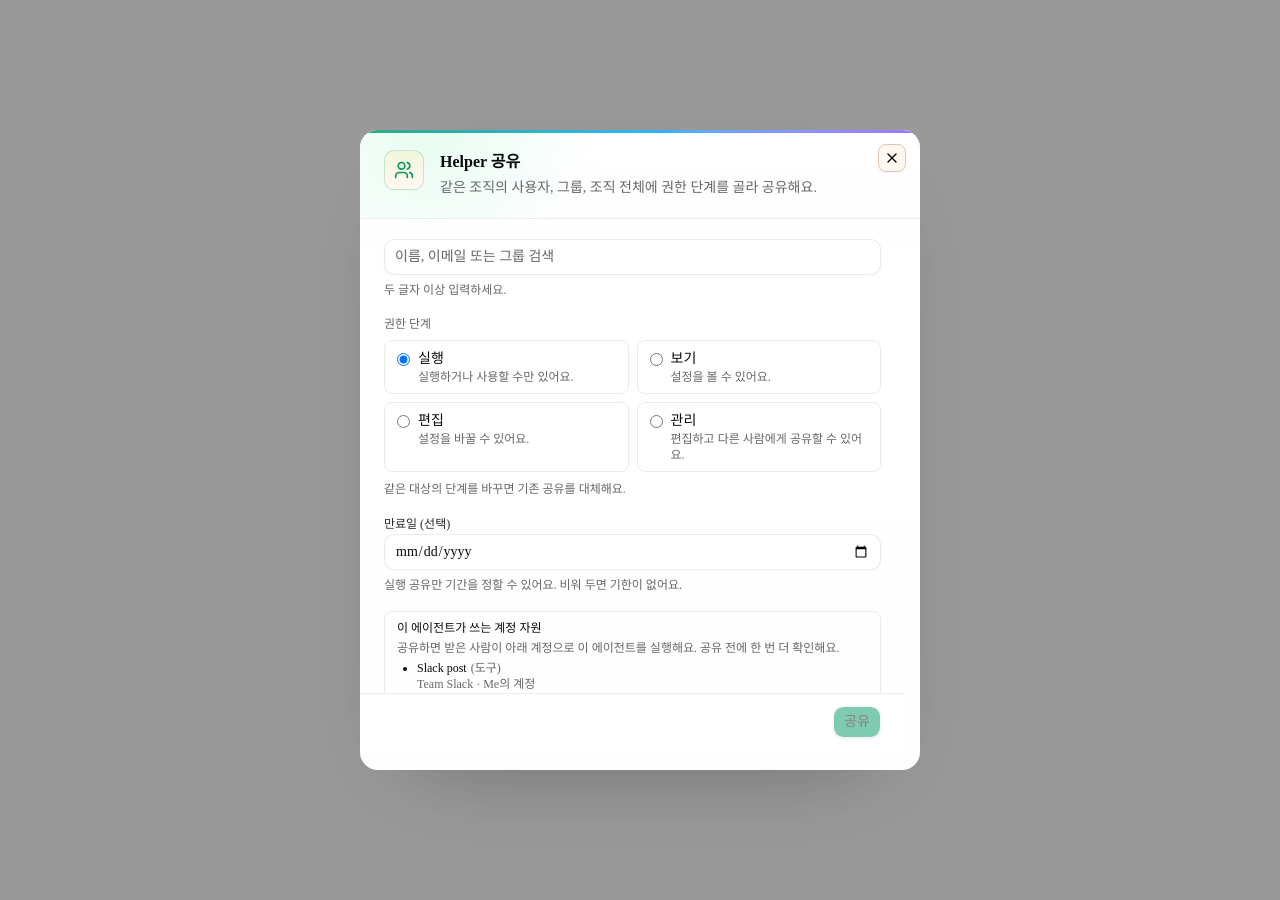
ResourceShareDialog delegation preview (E-06) › cancelling the confirmation sends nothing
Type "Lee" into the dropdown named "공유할 사람 또는 그룹" at [632, 257], box [384,239,881,275]
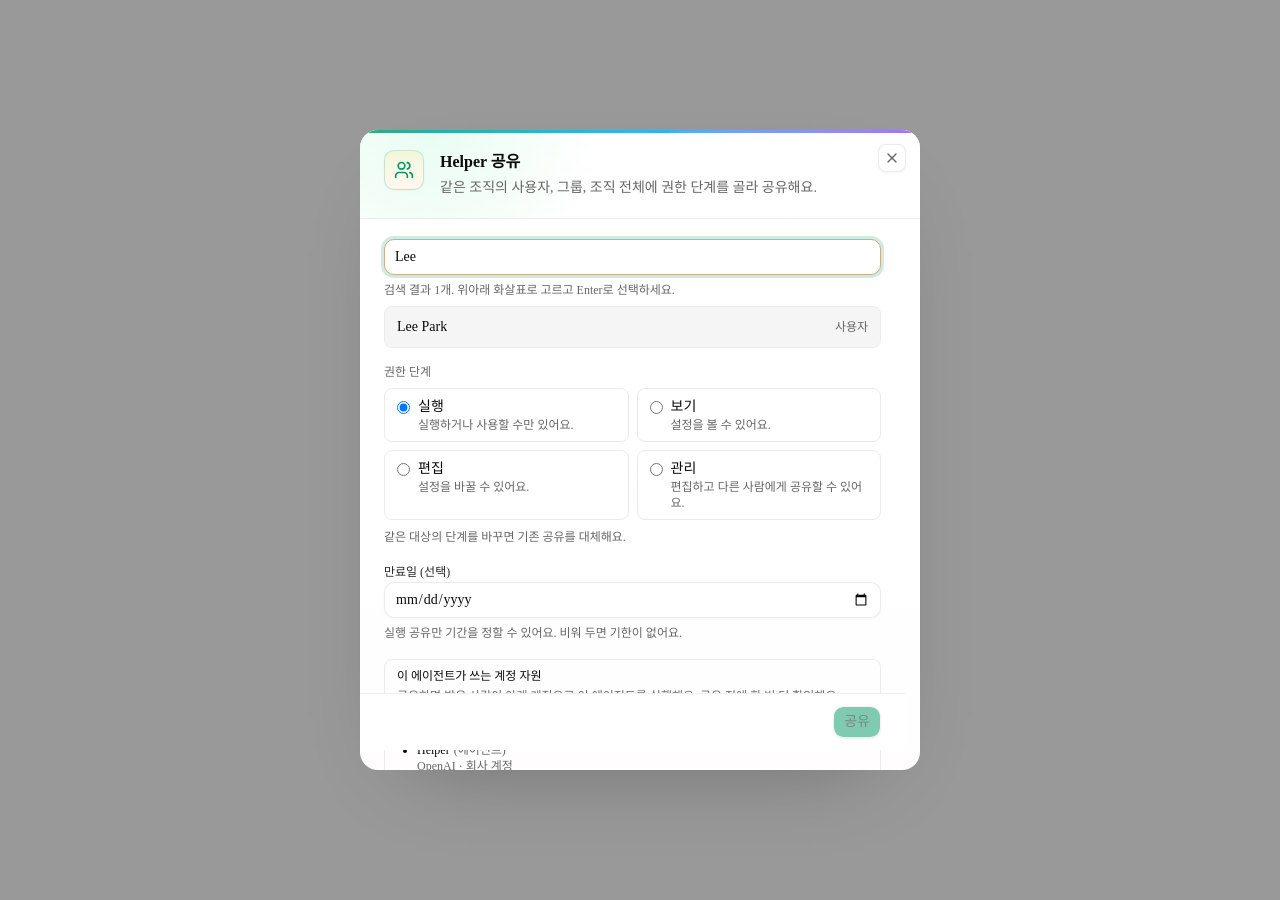
Check: the option "Lee Park 사용자" is shown, box [385,307,880,347]
Press Arrowdown Arrowup Enter
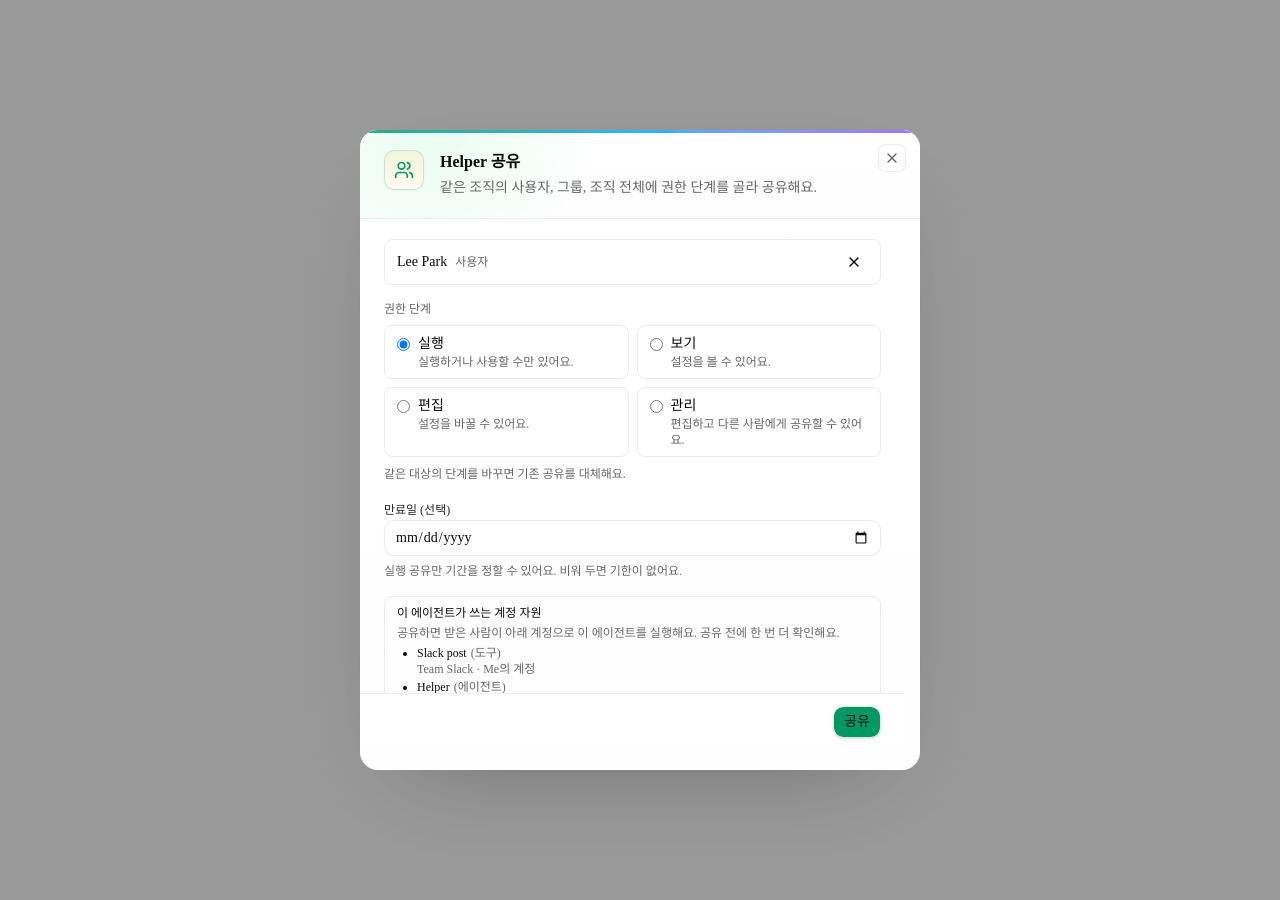
Click the button "공유" at [857, 722], box [833,706,881,738]
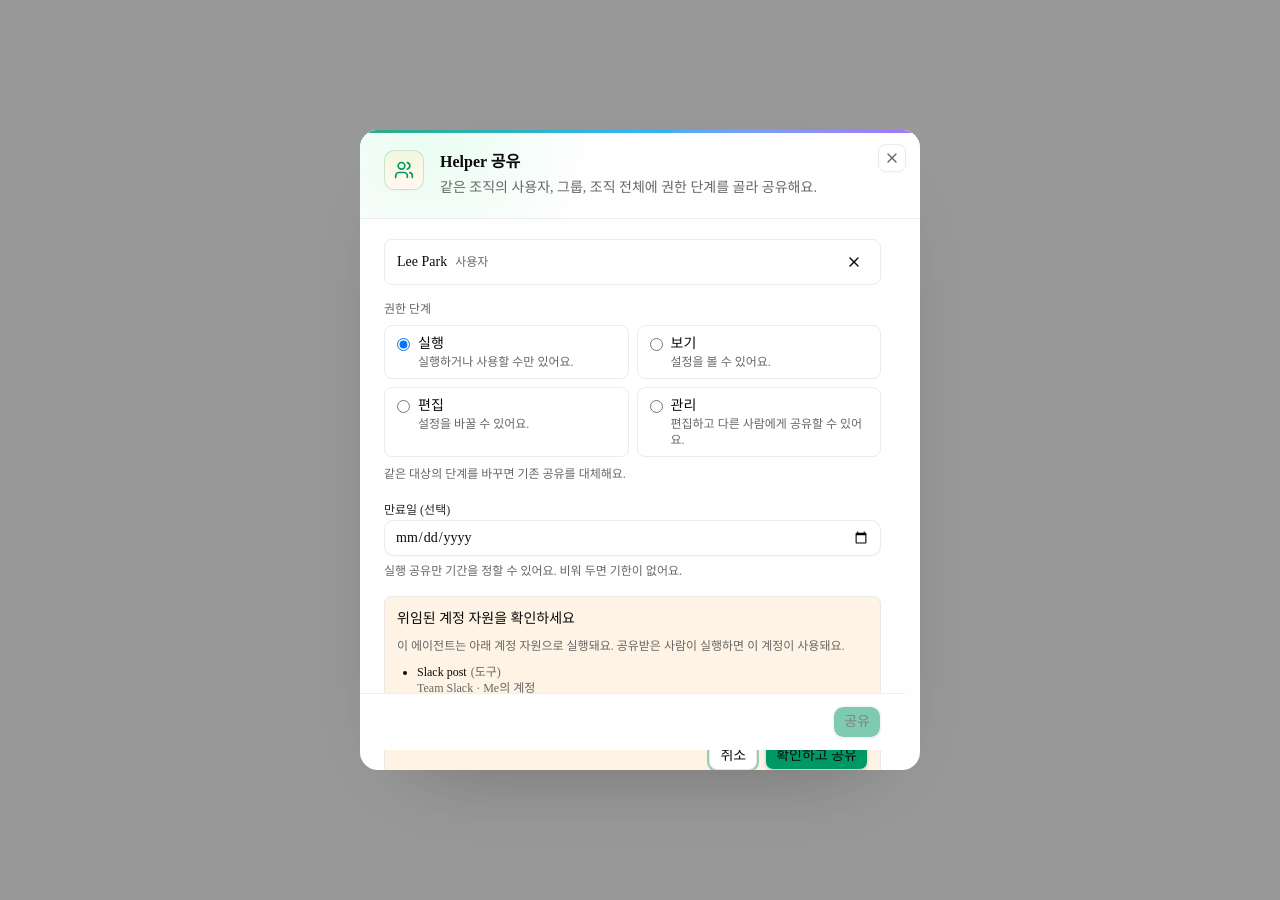
Click the button "취소" at [733, 756], box [710,742,757,770]
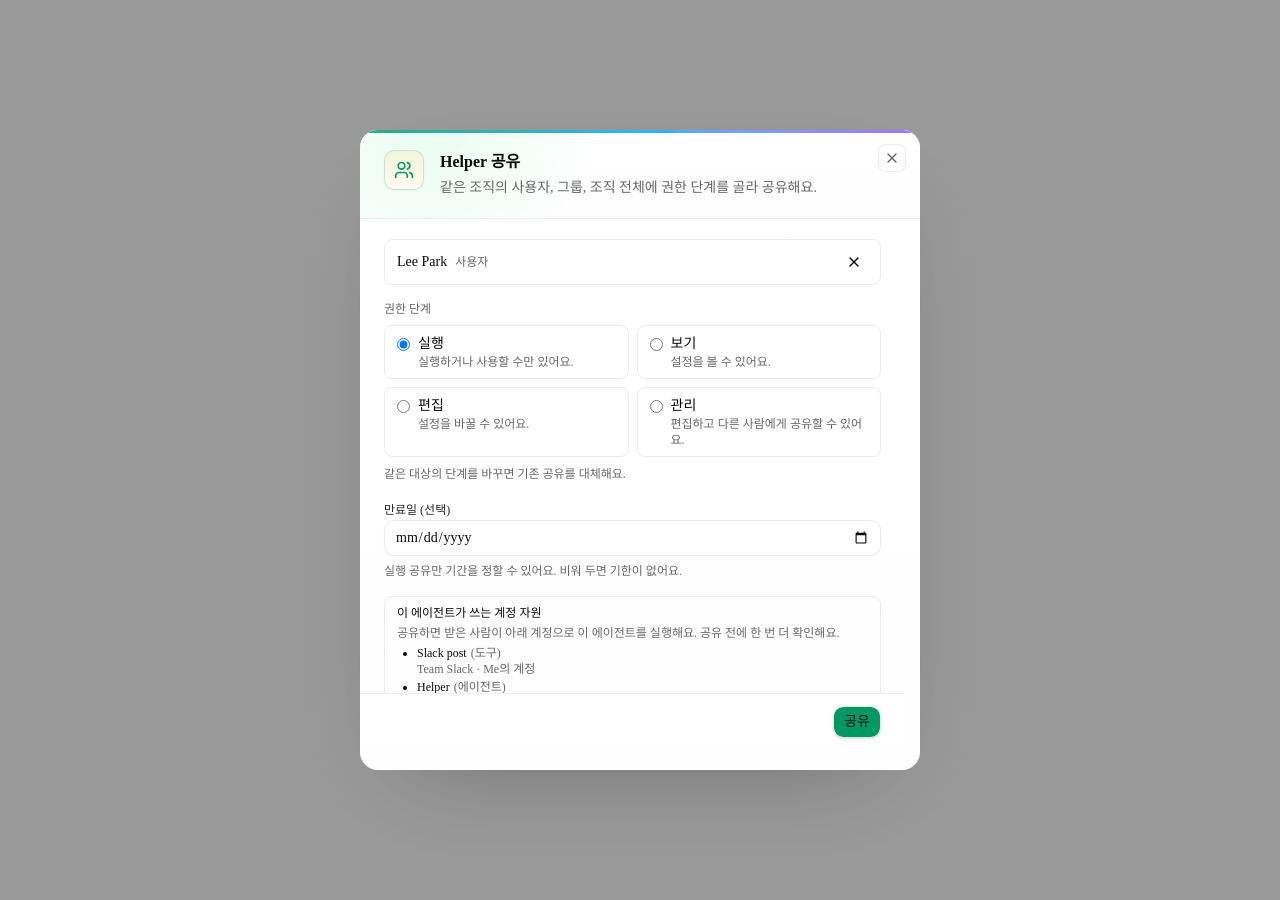
Check: the element "이 에이전트가 쓰는 계정 자원" is shown, box [384,596,881,720]
